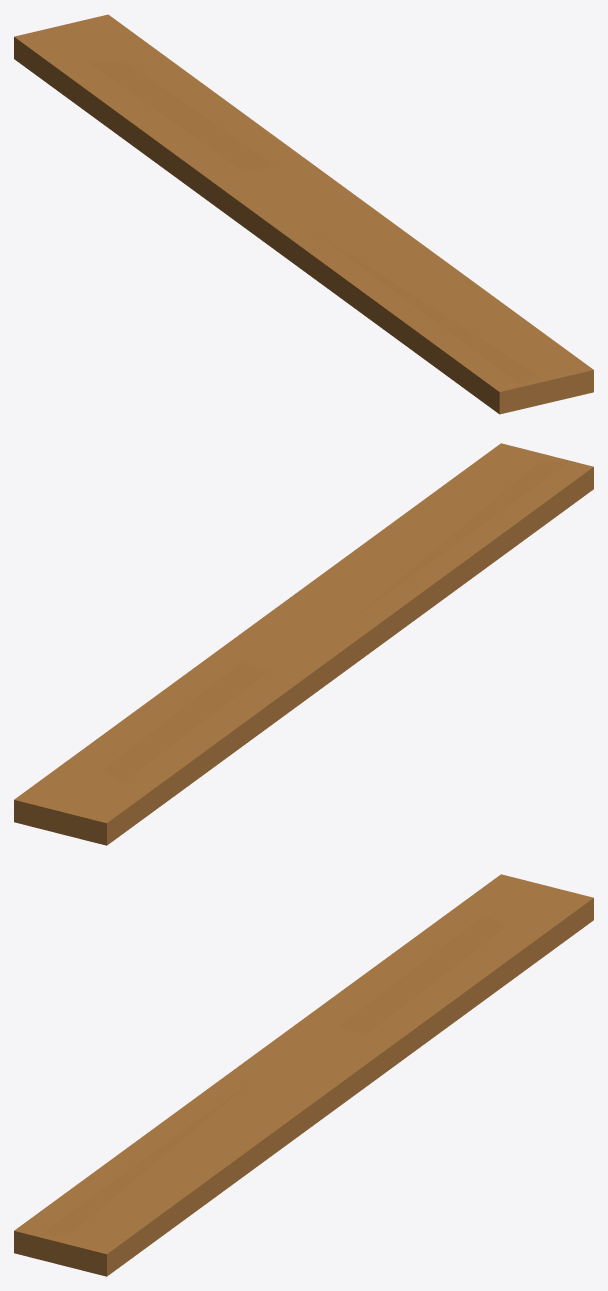
File: Plank_2_3.fbx
3 views of the same model, one above another, from view 1: azimuth 30°, elevation 25°; view 2: azimuth 150°, elevation 25°; view 3: azimuth 330°, elevation 25° (orthographic).
Visible parts, largest first — view 1: Plank_2_3; view 2: Plank_2_3; view 3: Plank_2_3.
Part boxes in pixels (x1=…): Plank_2_3: x1=14, y1=14, x2=593, y2=414; Plank_2_3: x1=14, y1=443, x2=593, y2=845; Plank_2_3: x1=14, y1=874, x2=593, y2=1276.
Bounding box in the file's own units: 33.34 × 7.63 × 301.
